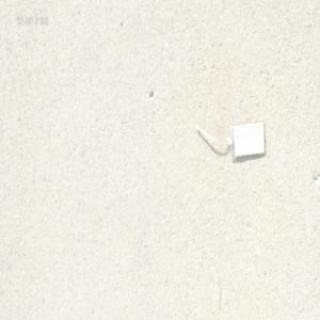LuggageTagtrack_idkeyframe: (194, 116, 266, 160)
